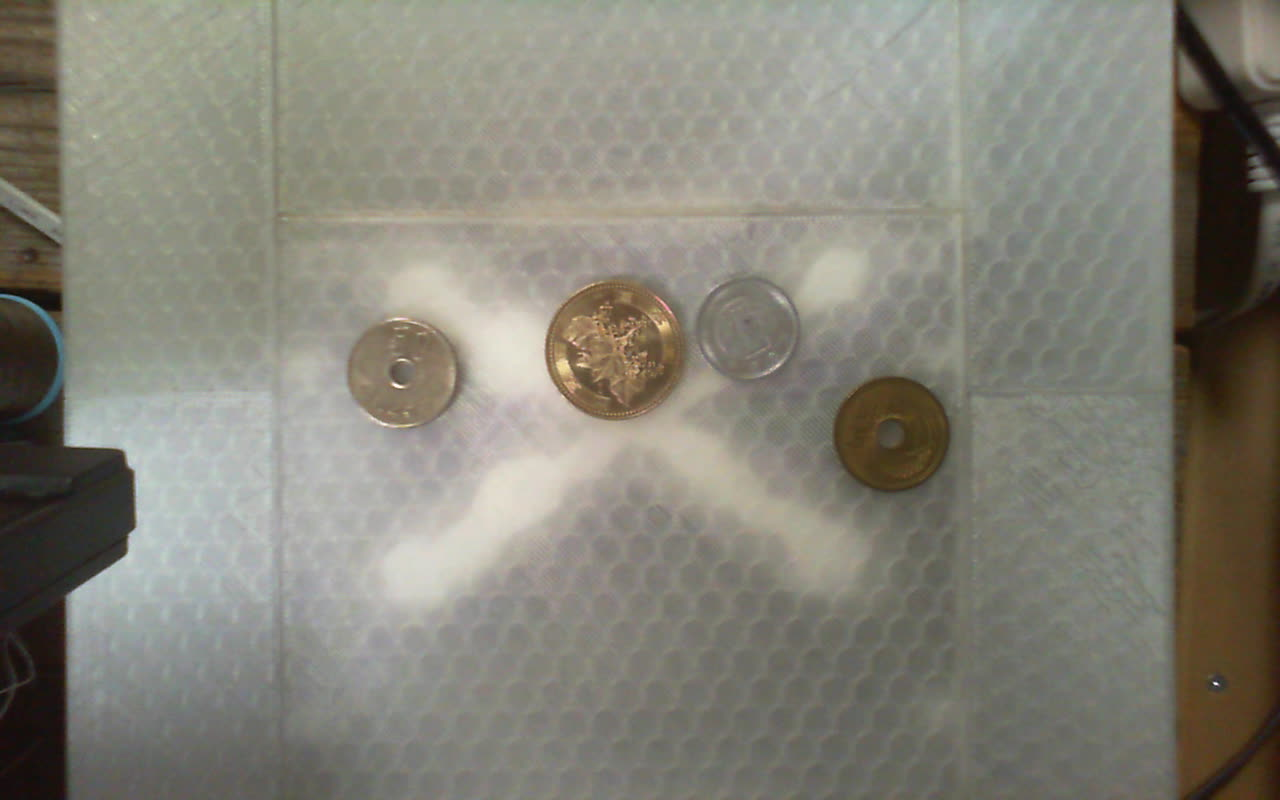1yen: (695, 275, 800, 381)
500yen: (545, 280, 685, 420)
50yen: (346, 316, 459, 429)
5yen: (833, 377, 951, 492)
